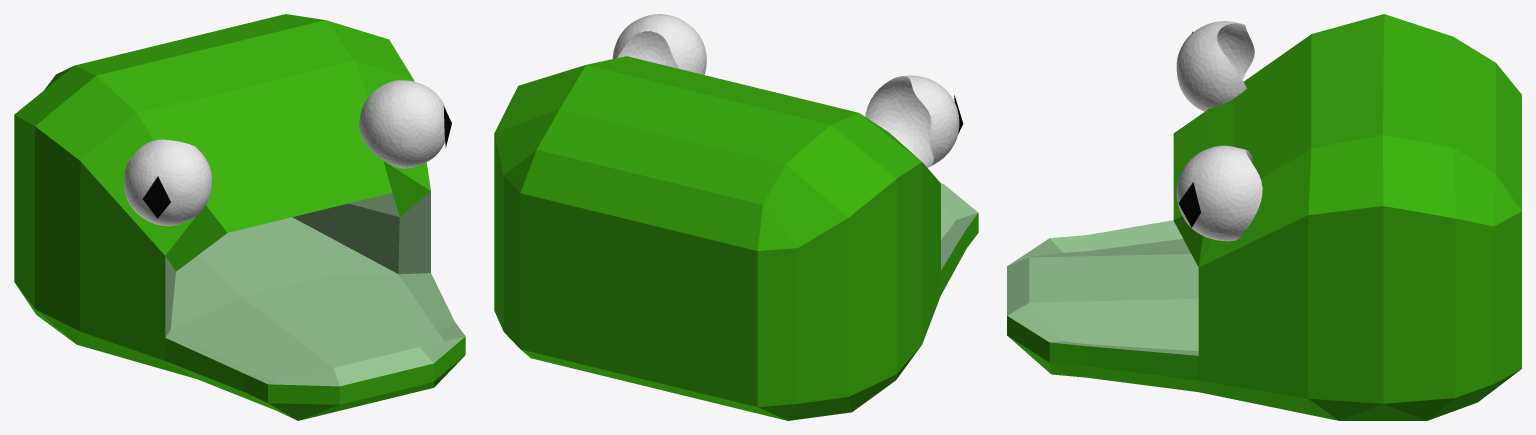
Rendered from snake.glb.
The picture shows the model from 3 angles, left to right: view 1: azimuth 30°, elevation 25°; view 2: azimuth 150°, elevation 25°; view 3: azimuth 270°, elevation 25°; orthographic projection. The views are drawn at different scales.
Parts seen in each view (by area): view 1: snakeBase.003, eyeR.006, eyeR.005, eyeR.007; view 2: snakeBase.003, eyeR.005, eyeR.006; view 3: snakeBase.003, eyeR.006, eyeR.005, eyeR.008.
Part boxes in pixels (x1,y1,x2,y2): snakeBase.003: (14, 14, 465, 420); eyeR.006: (359, 80, 446, 168); eyeR.005: (123, 139, 212, 226); eyeR.007: (143, 176, 170, 218); snakeBase.003: (494, 56, 978, 420); eyeR.005: (865, 75, 959, 167); eyeR.006: (612, 14, 706, 74); snakeBase.003: (1007, 14, 1521, 420); eyeR.006: (1176, 145, 1262, 241); eyeR.005: (1176, 21, 1254, 111); eyeR.008: (1178, 182, 1200, 227).
Bounding box in the file's own units: 0.8576 × 0.5652 × 1.
